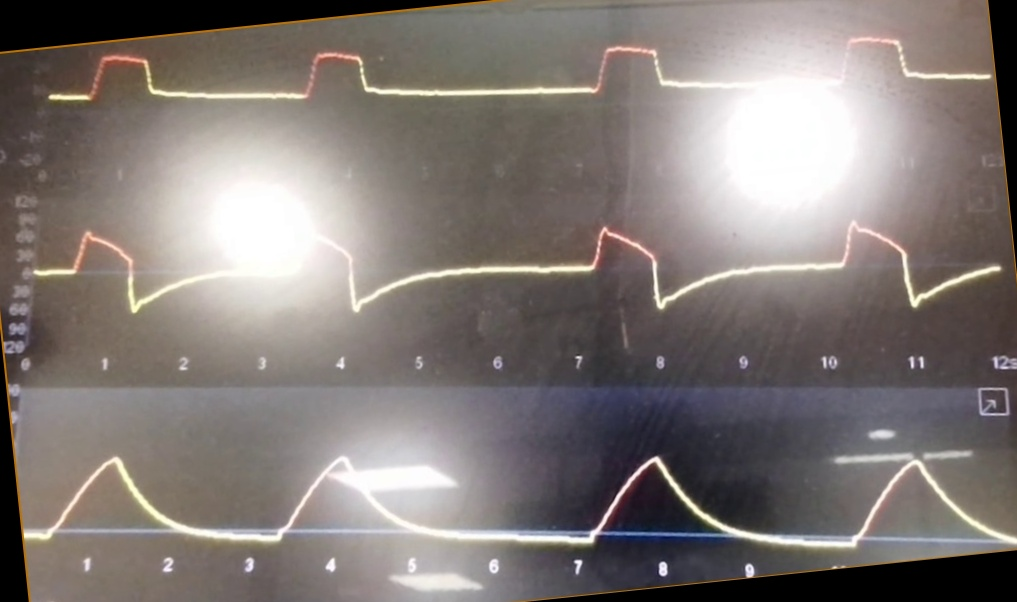Normal Flow: (36, 184, 995, 338)
Normal Volume: (27, 423, 1017, 553)
